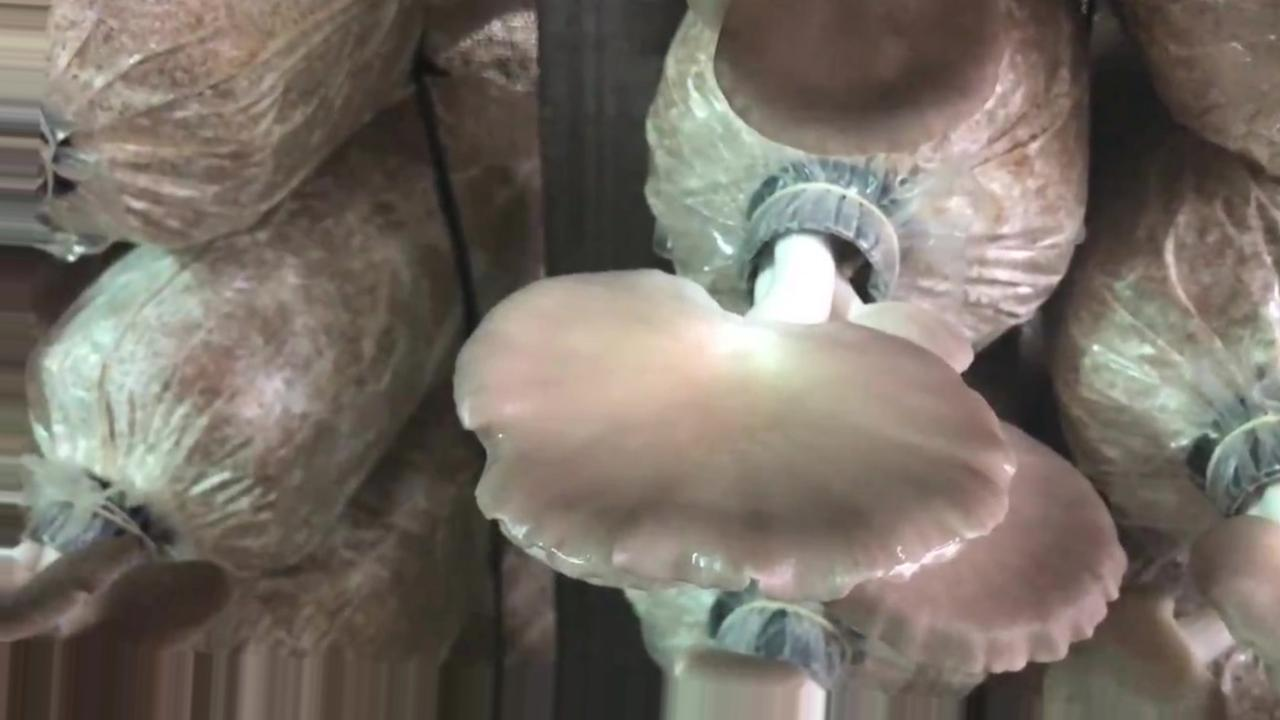nam: (443, 167, 1014, 596), (825, 417, 1110, 666), (1073, 398, 1280, 702), (713, 1, 999, 152)
